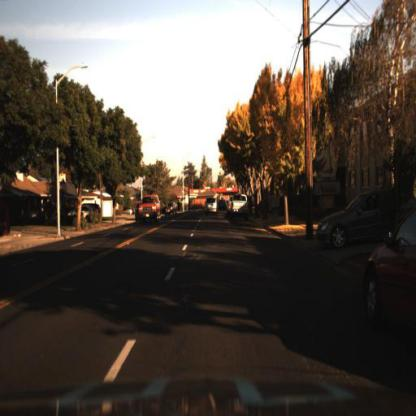car: (362, 200, 416, 339), (312, 190, 400, 250), (136, 193, 162, 225), (134, 193, 162, 221), (229, 193, 250, 221), (73, 204, 95, 222), (204, 196, 220, 218), (164, 197, 180, 217)
